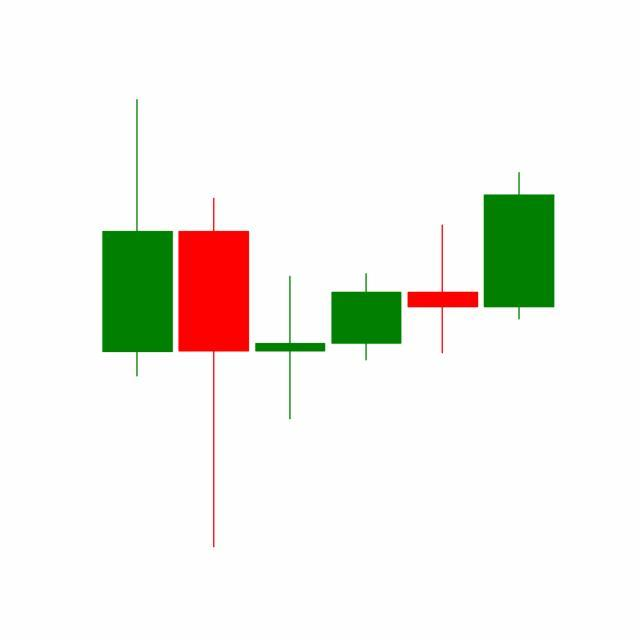Spinning Top: (404, 223, 482, 356)
